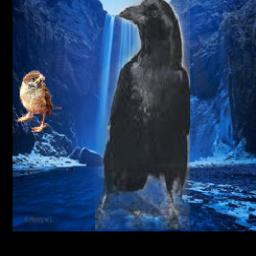Crow: (96, 0, 191, 230)
Sparrow: (16, 71, 62, 133)
